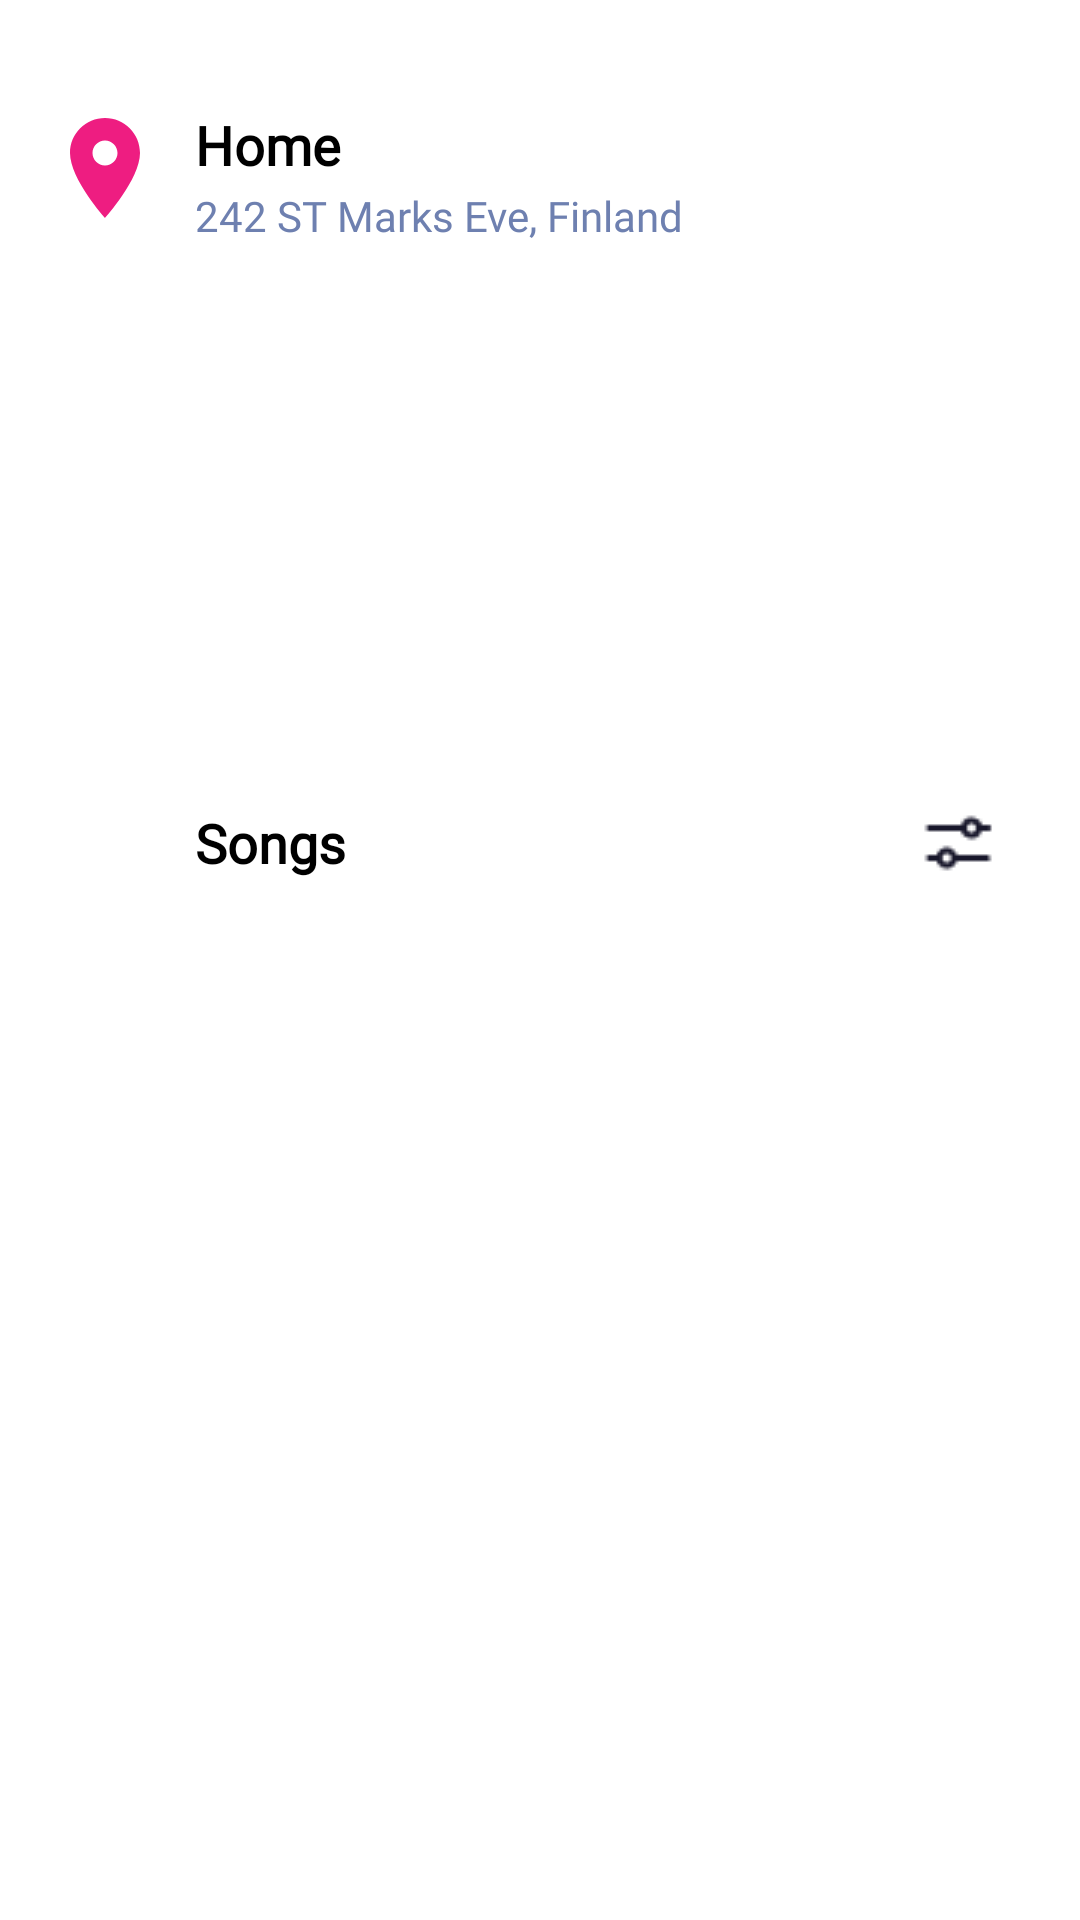

Screen size 1080x1920. Icon name, then its box in pixels as [x1,y1,x2,y2]:
location: [70,118,140,218]
sorting: [924,815,992,871]
